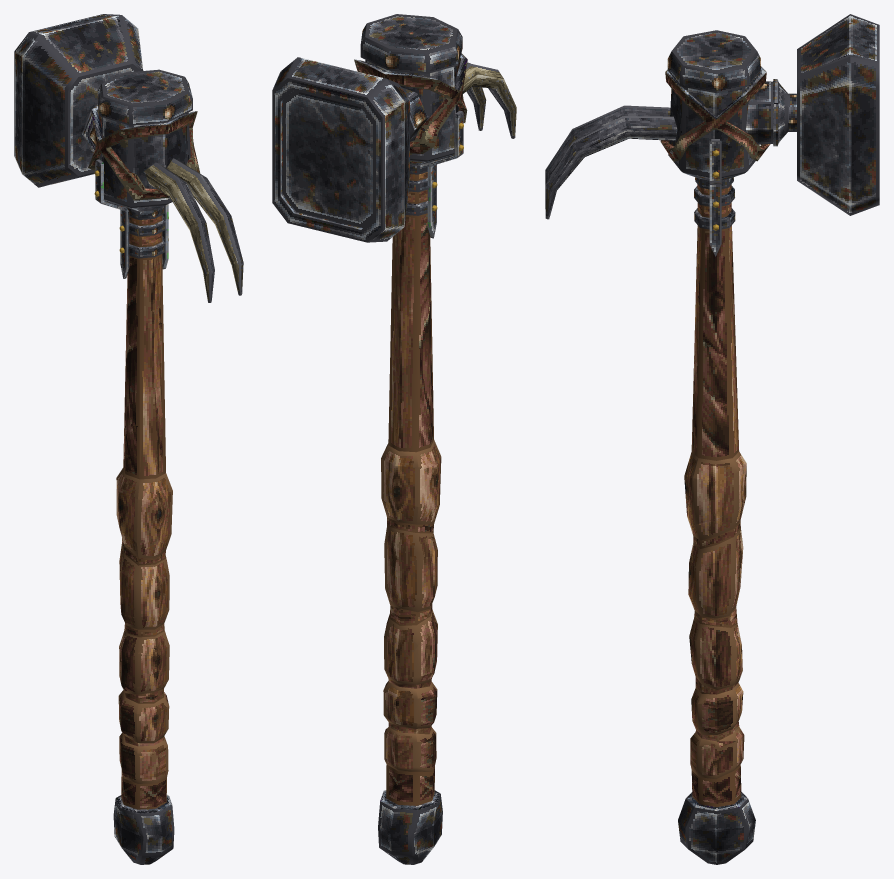
Rendered from coffin_hammer.glb.
3 views of the same model, side by side, from view 1: azimuth 30°, elevation 25°; view 2: azimuth 150°, elevation 25°; view 3: azimuth 270°, elevation 25° (orthographic). The views are drawn at different scales.
Visible parts, largest first — view 1: coffin_hammer; view 2: coffin_hammer; view 3: coffin_hammer.
Part boxes in pixels (x1,y1,x2,y2): coffin_hammer: (14, 14, 243, 864); coffin_hammer: (272, 14, 516, 864); coffin_hammer: (545, 14, 879, 864).
Size of the model in its own units: 0.1027 by 0.6662 by 0.2449.
Materials: 1 (1 with a texture image).
